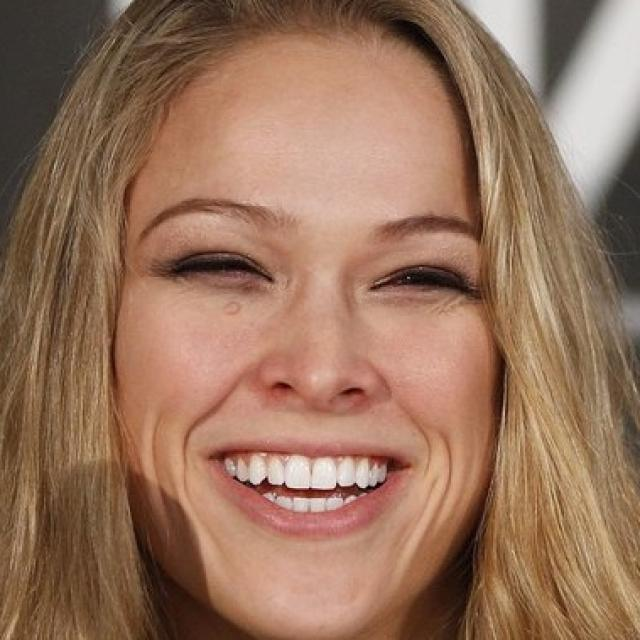Normal: (106, 25, 500, 638)
